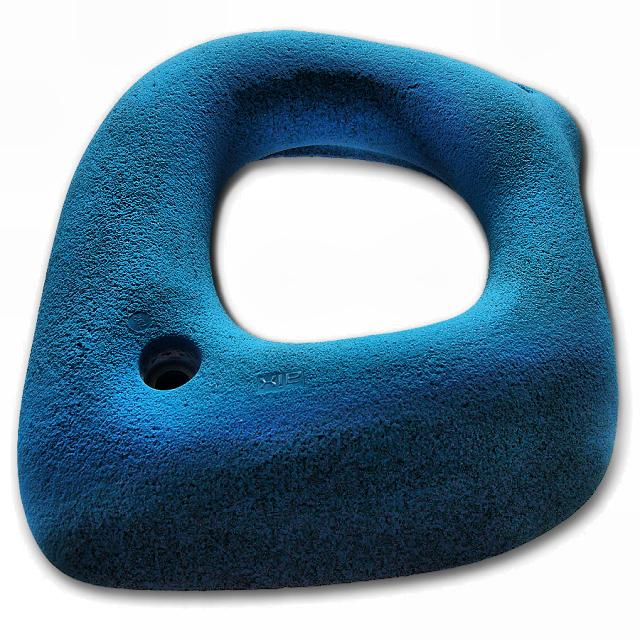Hold: (21, 33, 618, 596)
